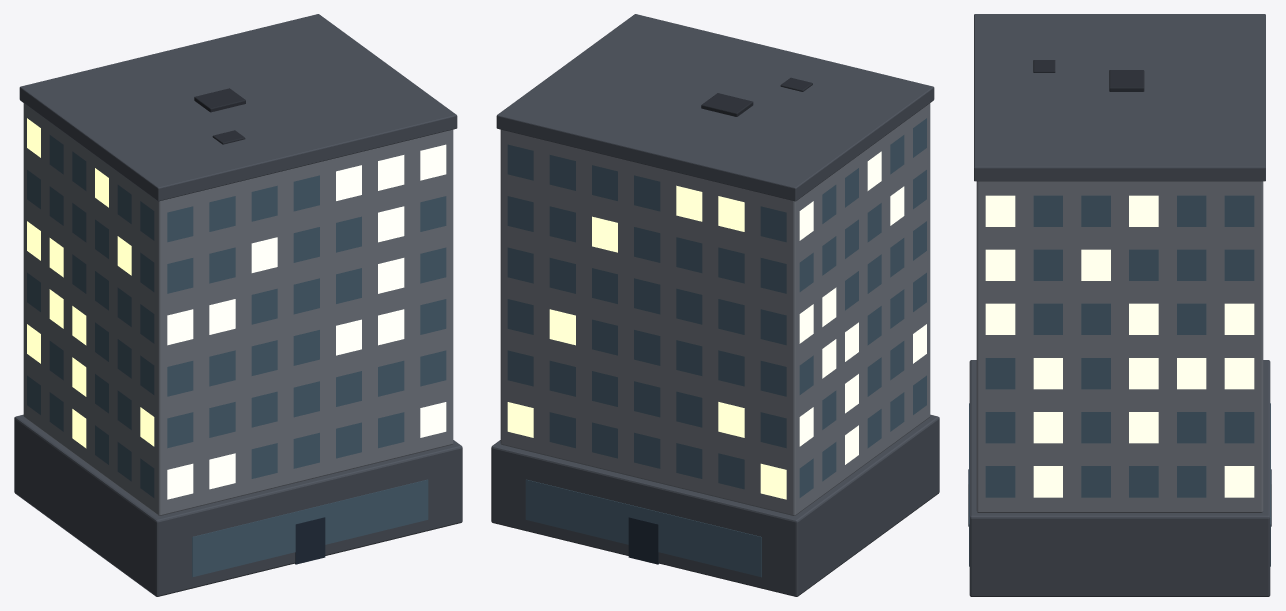
Rendered from bld_office.glb.
3 renders of one model, left to right at view 1: azimuth 30°, elevation 25°; view 2: azimuth 150°, elevation 25°; view 3: azimuth 270°, elevation 25°, orthographic. The views are drawn at different scales.
Parts seen in each view (by area): view 1: Shaft, Parapet, Windows, Podium, WindowsLit, Storefront, Door, AC_0; view 2: Shaft, Parapet, Windows, Podium, WindowsLit, Storefront, Door, AC_0; view 3: Shaft, Parapet, Podium, Windows, WindowsLit, AC_0.
Boxes of the visible parts, bbox=[...] form: Shaft: bbox=[23, 103, 453, 515]; Parapet: bbox=[19, 14, 457, 201]; Windows: bbox=[27, 135, 446, 497]; Podium: bbox=[14, 414, 462, 596]; WindowsLit: bbox=[27, 118, 446, 499]; Storefront: bbox=[192, 479, 428, 577]; Door: bbox=[295, 517, 325, 564]; AC_0: bbox=[194, 88, 245, 112]; Shaft: bbox=[500, 103, 930, 515]; Parapet: bbox=[496, 14, 934, 201]; Windows: bbox=[507, 118, 926, 497]; Podium: bbox=[491, 414, 939, 596]; WindowsLit: bbox=[507, 151, 926, 499]; Storefront: bbox=[525, 479, 761, 577]; Door: bbox=[628, 517, 658, 564]; AC_0: bbox=[701, 93, 753, 116]; Shaft: bbox=[976, 181, 1263, 512]; Parapet: bbox=[974, 14, 1265, 181]; Podium: bbox=[969, 360, 1270, 596]; Windows: bbox=[985, 195, 1254, 497]; WindowsLit: bbox=[985, 195, 1254, 497]; AC_0: bbox=[1109, 70, 1144, 91].
Bounding box in the file's own units: 20.8 × 26.64 × 16.92.
